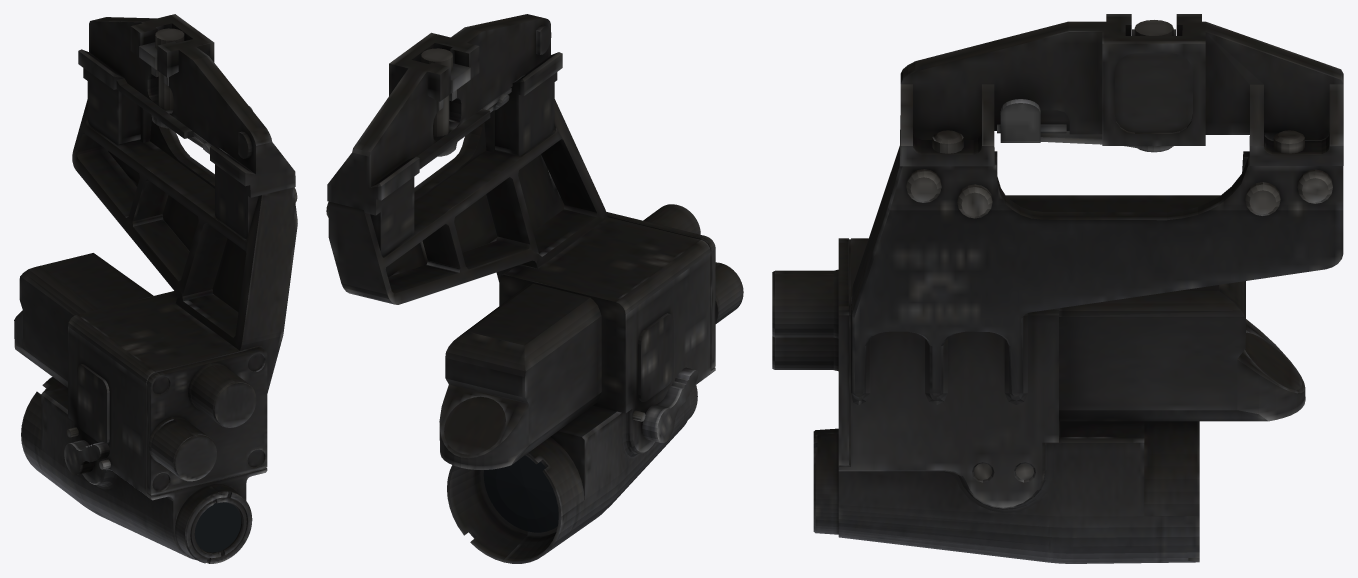
The picture shows the model from 3 angles, left to right: view 1: azimuth 30°, elevation 25°; view 2: azimuth 150°, elevation 25°; view 3: azimuth 270°, elevation 25°; orthographic projection. The views are drawn at different scales.
Parts seen in each view (by area): view 1: TW_618a5d5852ecee1505530b2a_PZ_Import; view 2: TW_618a5d5852ecee1505530b2a_PZ_Import; view 3: TW_618a5d5852ecee1505530b2a_PZ_Import.
Part boxes in pixels (box(x1,y1,x2,y2)): TW_618a5d5852ecee1505530b2a_PZ_Import: box(14, 14, 297, 563); TW_618a5d5852ecee1505530b2a_PZ_Import: box(326, 14, 743, 563); TW_618a5d5852ecee1505530b2a_PZ_Import: box(772, 14, 1343, 563).
Bounding box in the file's own units: 0.0371 × 0.0723 × 0.0809.
Materials: 1 (1 with a texture image).
